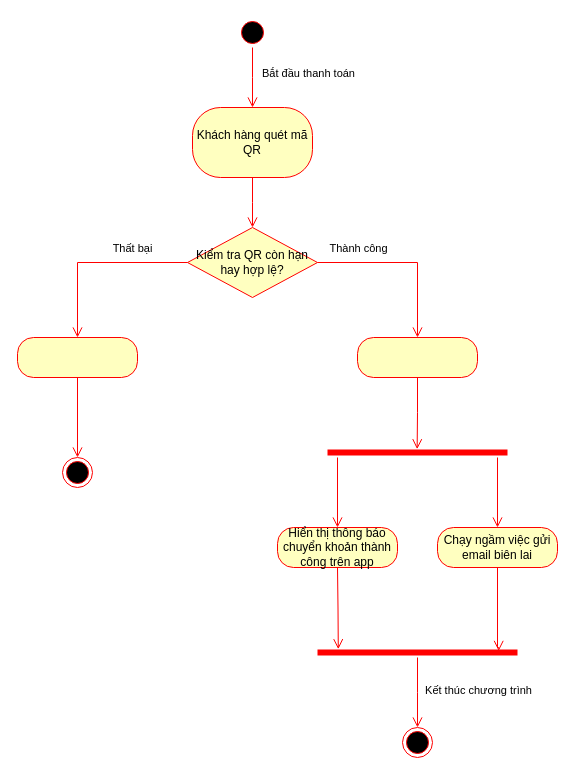
This 575x775 diagram has some shape labels left out. The centre of each missing label's shape, as x and y in pixels:
"Báo lỗi mã QR, yêu cầu lấy mã mới" goes at pixel 77 357.
"Hệ thống gọi API trừ tiền" goes at pixel 417 357.
